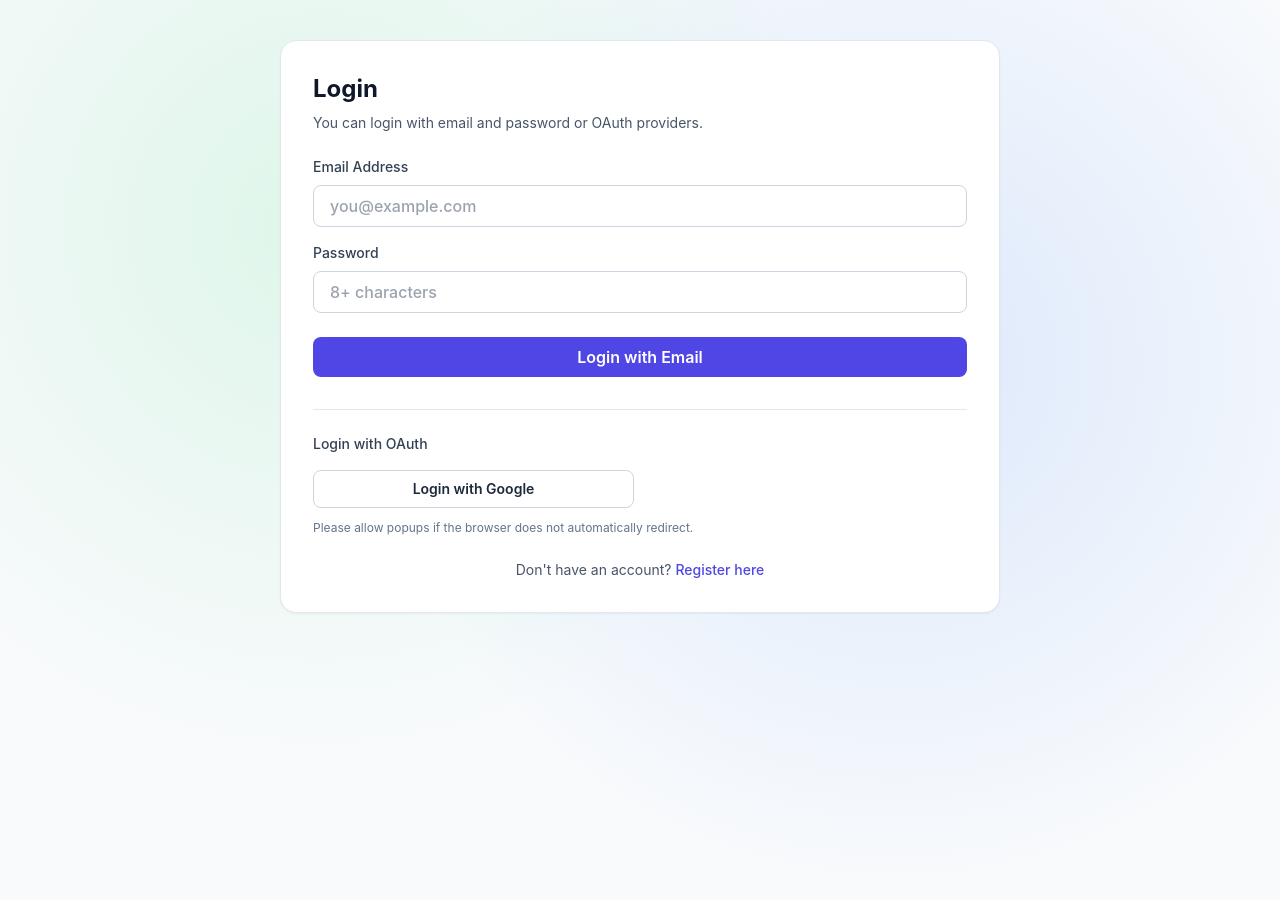
LoginPage › submits login form and stores tokens on success
The width and height of the screenshot is (1280, 900).
In the field labelled "Email Address": (640, 206) top-left (313, 185), bottom-right (967, 227), type "Alice@example.com "
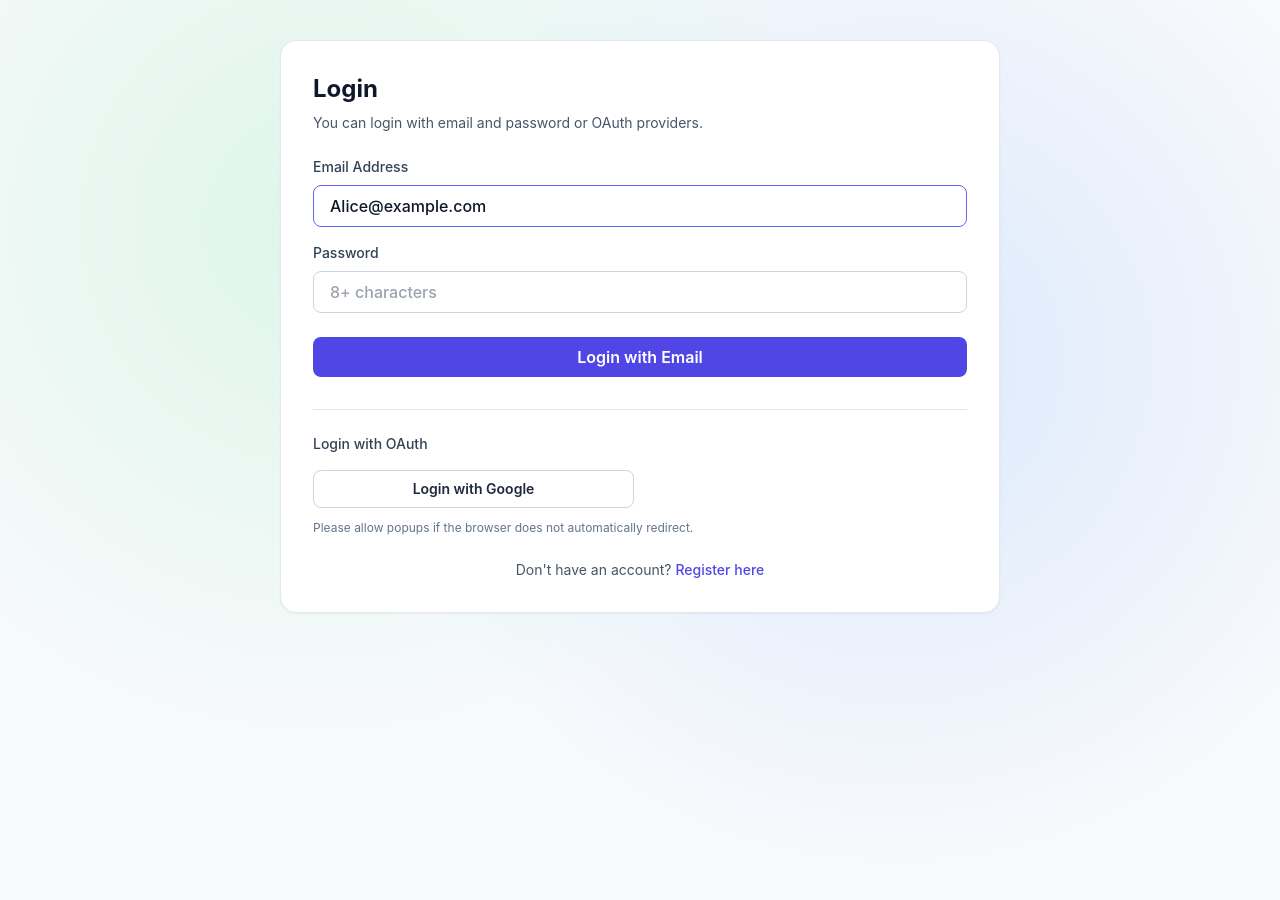
In the password field labelled "Password": (640, 292) top-left (313, 271), bottom-right (967, 313), type "password123"
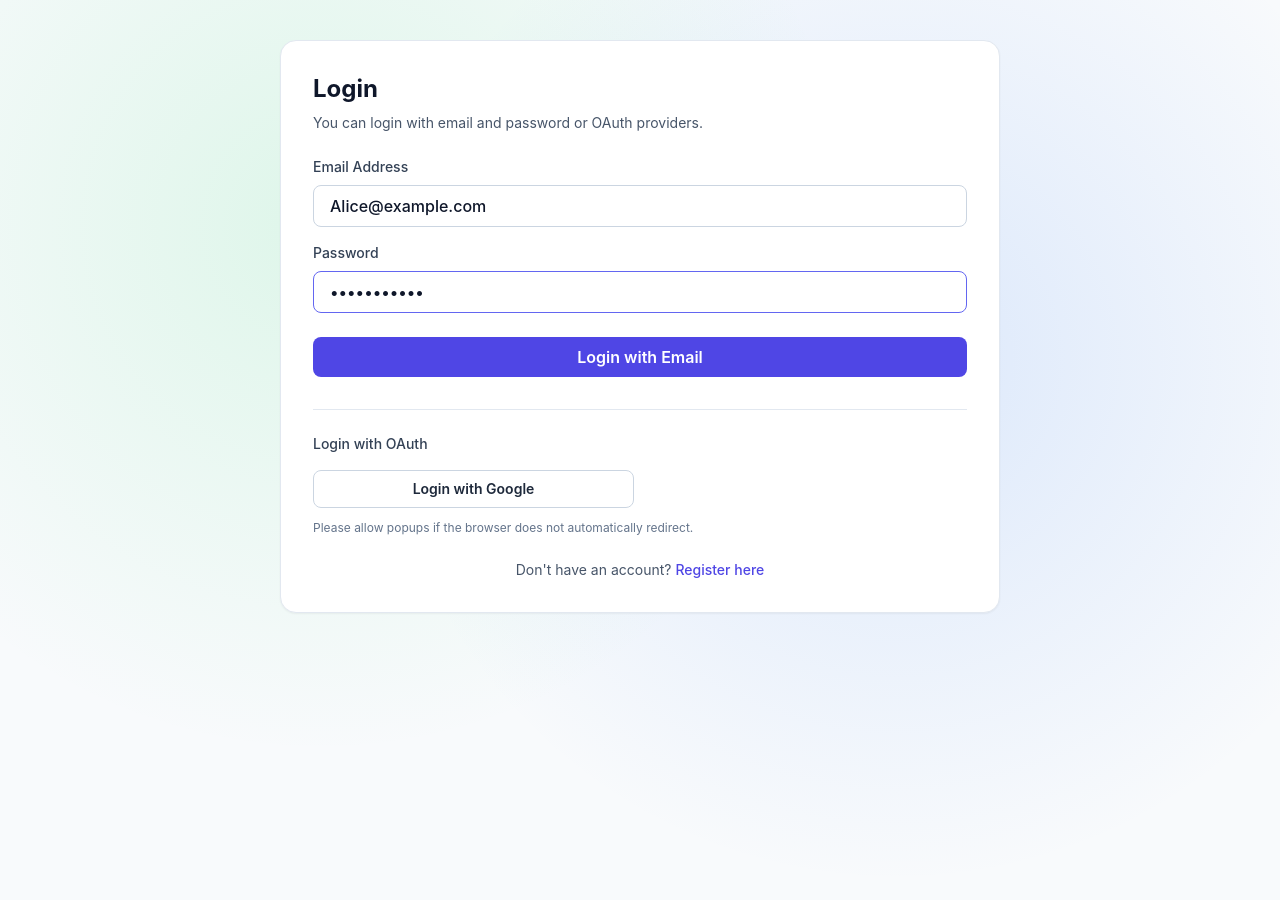
Click the button "Login with Email": (640, 357) top-left (313, 337), bottom-right (967, 377)
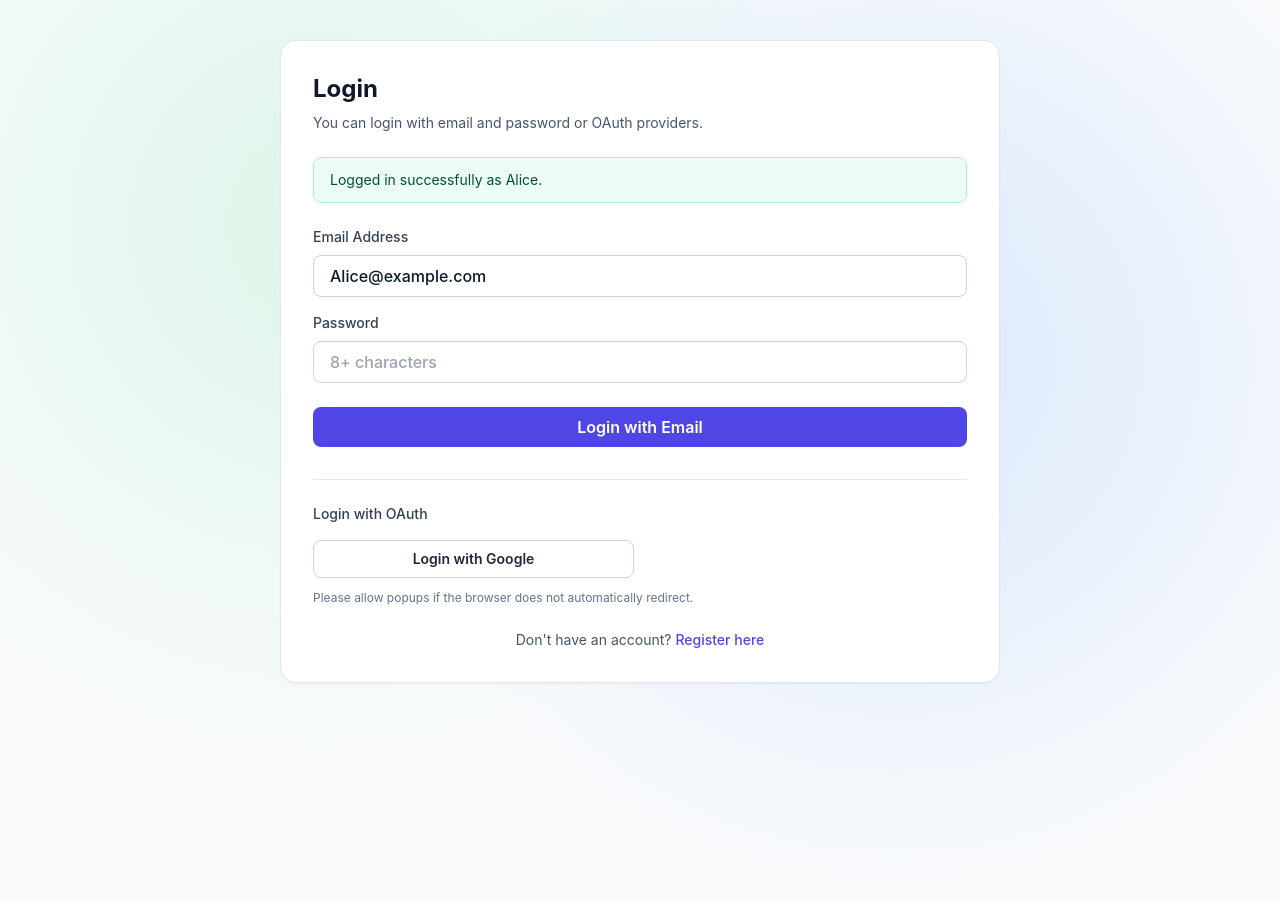
Now the text "Logged in successfully as Alice." is shown, box top-left (313, 157), bottom-right (967, 203)
